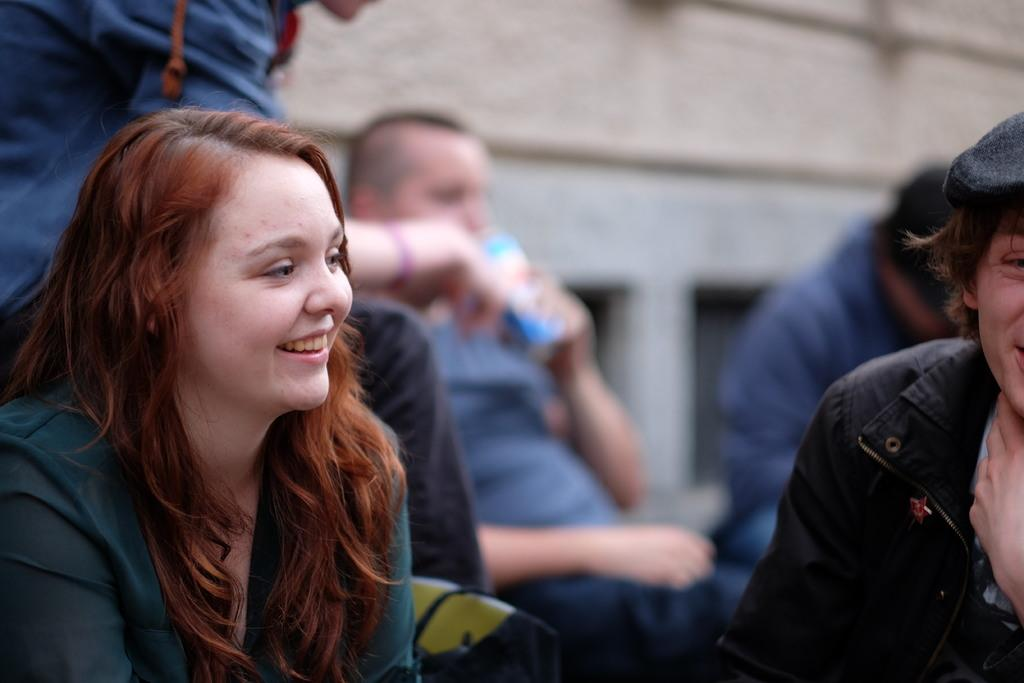Hat: (928, 106, 1022, 226)
